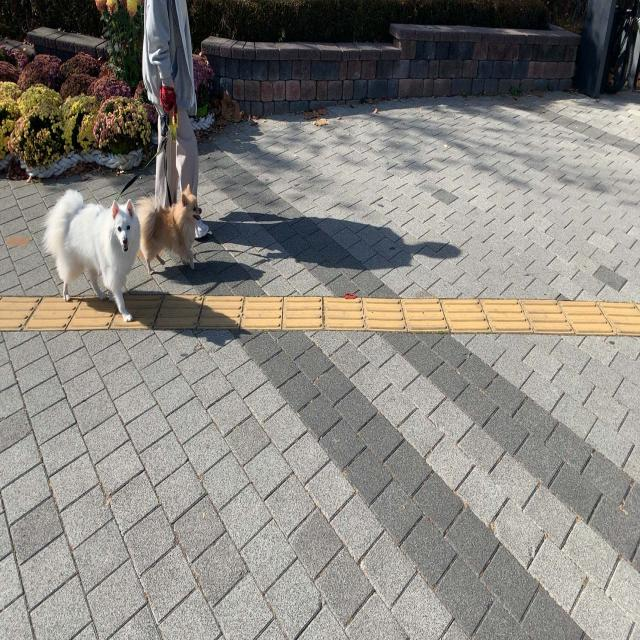Leashed_Dog: (42, 122, 170, 324), (140, 122, 202, 276)
